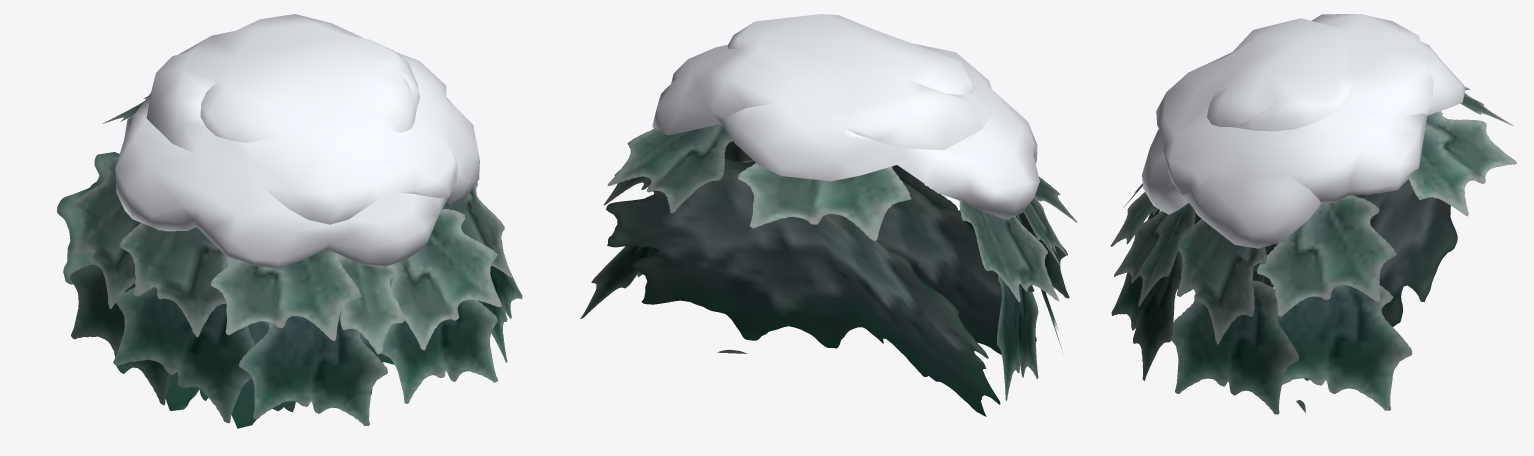
Rendered from holly-winter.glb.
3 renders of one model, left to right at view 1: azimuth 30°, elevation 25°; view 2: azimuth 150°, elevation 25°; view 3: azimuth 270°, elevation 25°, orthographic. The views are drawn at different scales.
Bounding box in the file's own units: 12.14 × 8.86 × 10.53.
2 materials, 1 textured.
